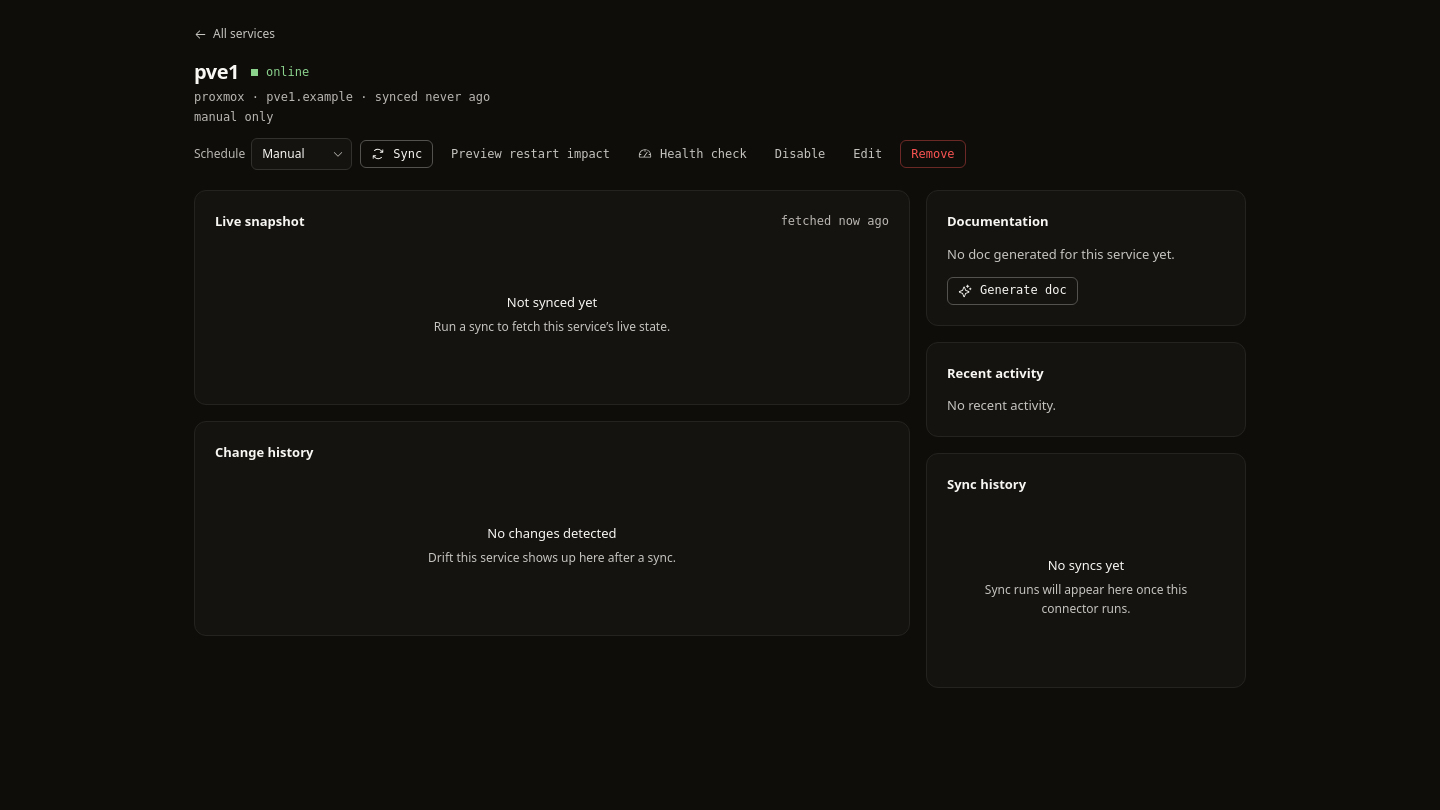
Test: ServiceDetailPage restart preview › shows the read-only restart impact returned by the connector API
Click the button "Preview restart impact": (531,154) [441,140,620,168]
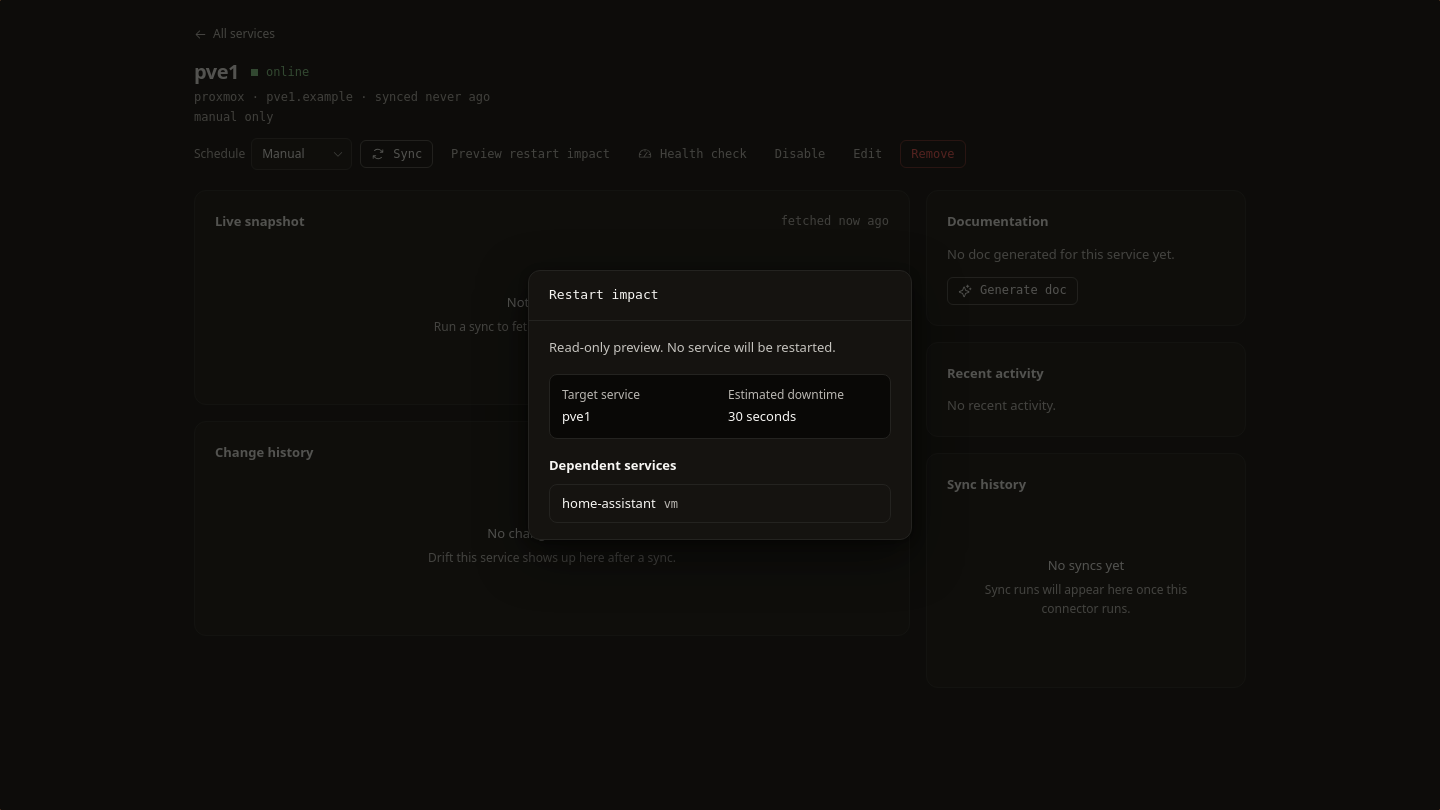
Now the dialog "Restart impact" shows "Read-only preview. No service will be restarted.", box [549,338,836,356]
Now the text "30 seconds" is shown, box [728,406,796,424]
Now the text "home-assistant" is shown, box [562,494,656,512]
